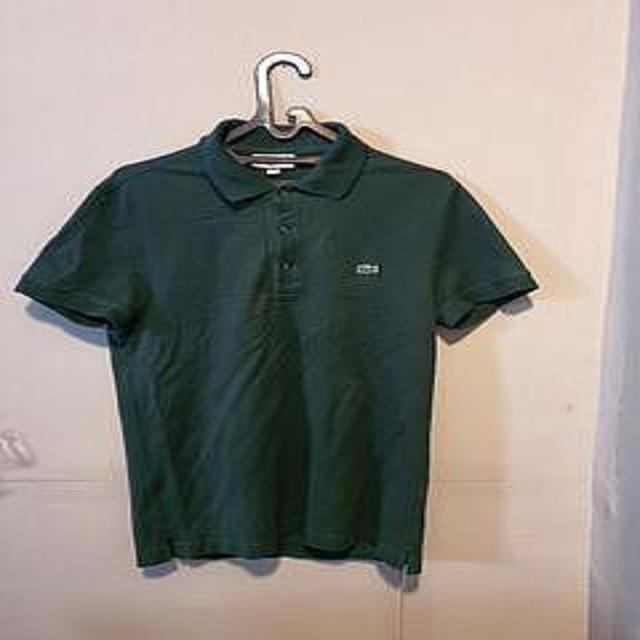T_SHIRT: (9, 103, 537, 598)
